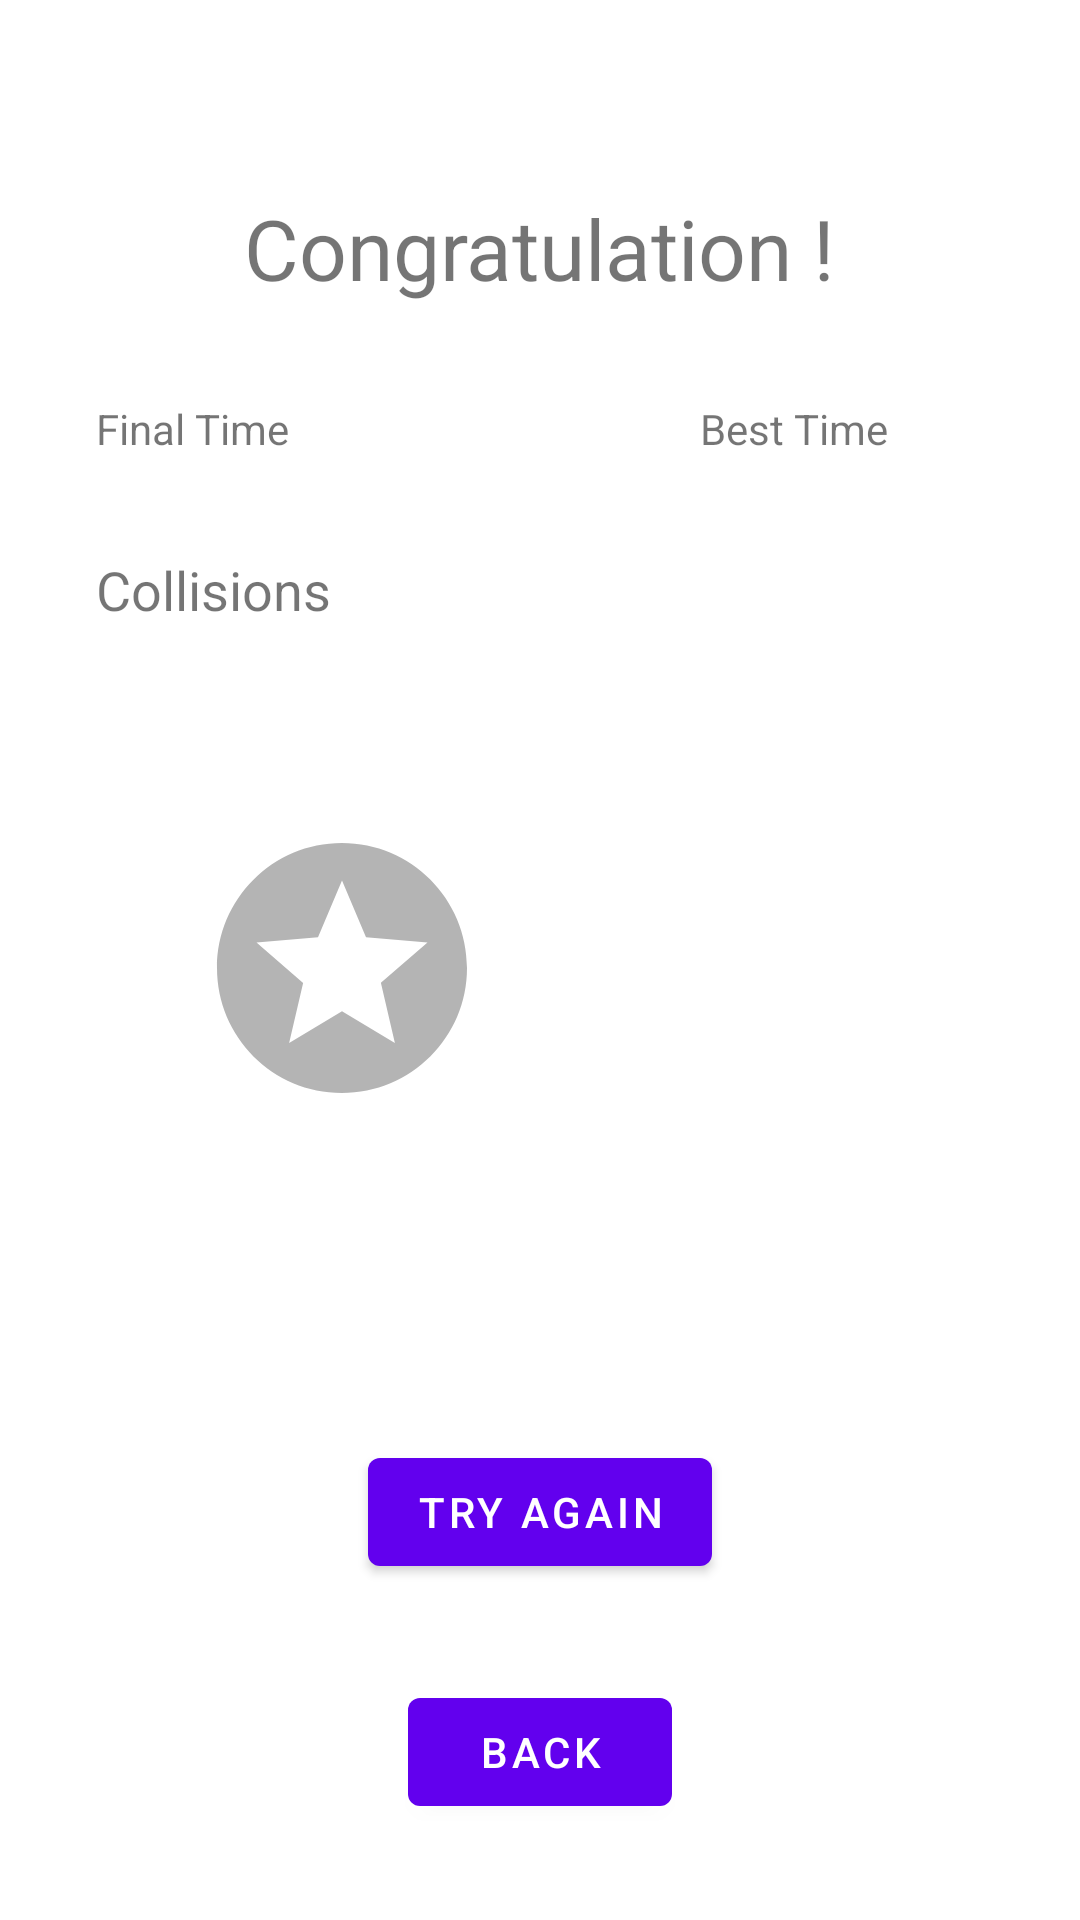

Where icons sit on this 1080px x 1920px app screen, as {"left": x1, "top": y1, "right": x2, "bottom": y2}:
Badges: {"left": 217, "top": 843, "right": 467, "bottom": 1093}
